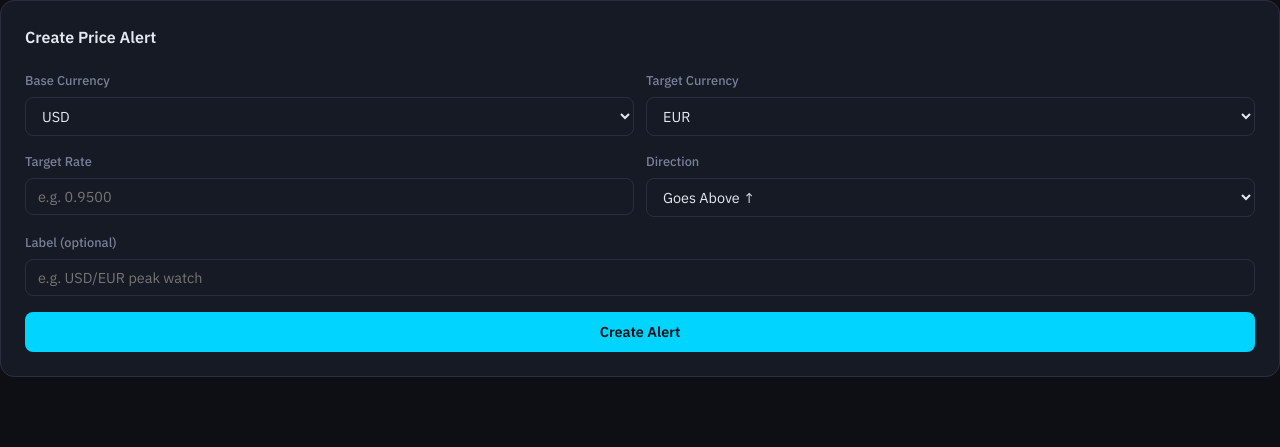
Test case: AlertForm › shows validation error for empty target rate
This screenshot has width=1280, height=447.
Click the button "Create Alert": (640, 332) left=25, top=312, right=1255, bottom=352
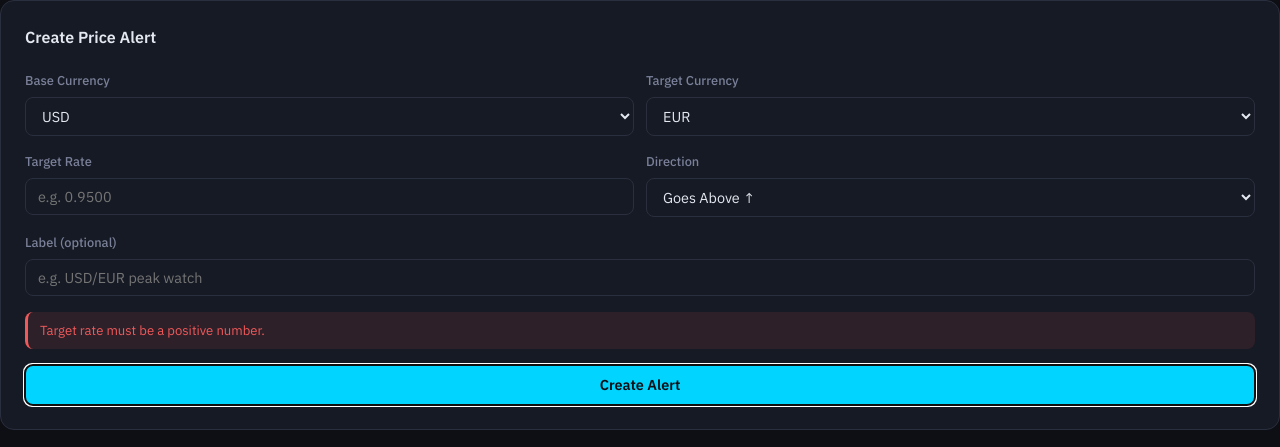
expect the message shows "positive number": met, box left=40, top=322, right=265, bottom=339
